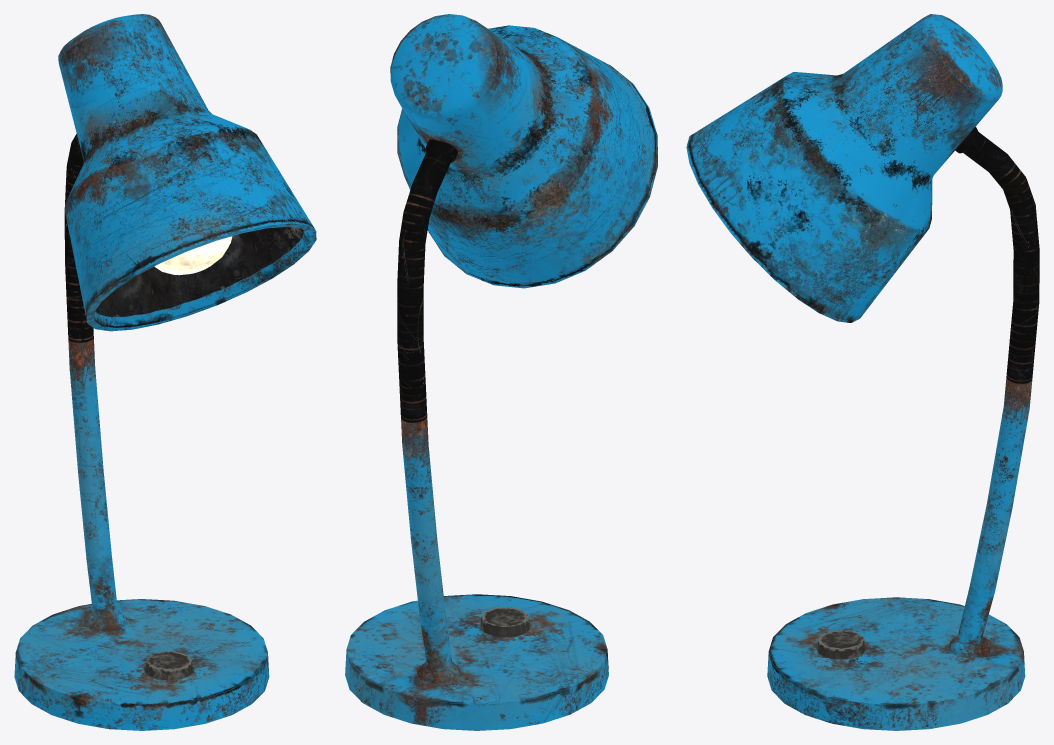
File: table_lamp_rust.glb
3 views of the same model, side by side, from view 1: azimuth 30°, elevation 25°; view 2: azimuth 150°, elevation 25°; view 3: azimuth 270°, elevation 25° (orthographic). The views are drawn at different scales.
Visible parts, largest first — view 1: Table_lamp_Blue_painted_metall_0, Table_lamp_Glass_0; view 2: Table_lamp_Blue_painted_metall_0; view 3: Table_lamp_Blue_painted_metall_0.
Boxes of the visible parts, bbox=[...] form: Table_lamp_Blue_painted_metall_0: bbox=[14, 14, 316, 730]; Table_lamp_Glass_0: bbox=[154, 236, 232, 275]; Table_lamp_Blue_painted_metall_0: bbox=[345, 14, 657, 730]; Table_lamp_Blue_painted_metall_0: bbox=[686, 14, 1039, 730].
Size of the model in its own units: 0.2063 by 0.5785 by 0.2824.
Materials: 2 (1 with a texture image).
